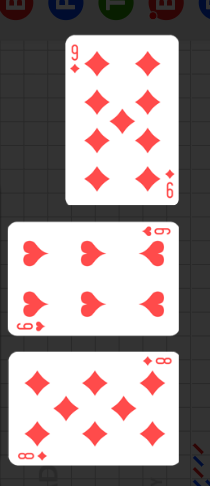8D: (141, 355, 173, 367)
9D: (164, 167, 176, 200), (69, 43, 81, 75)
